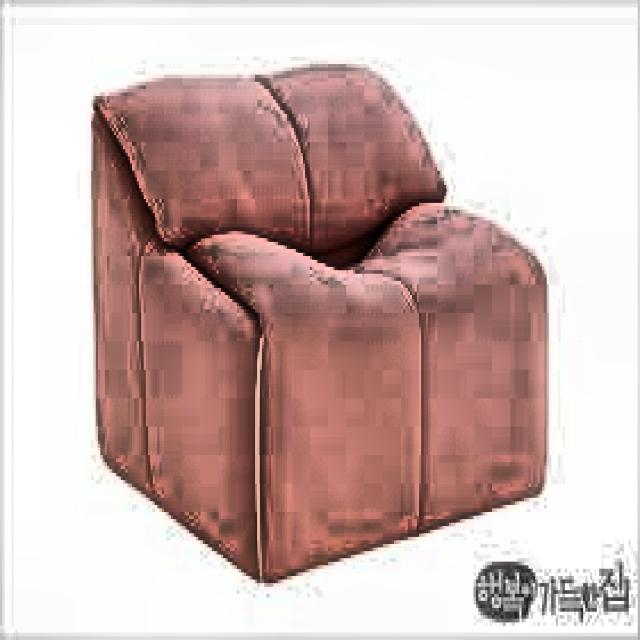sofa: (87, 82, 562, 565)
